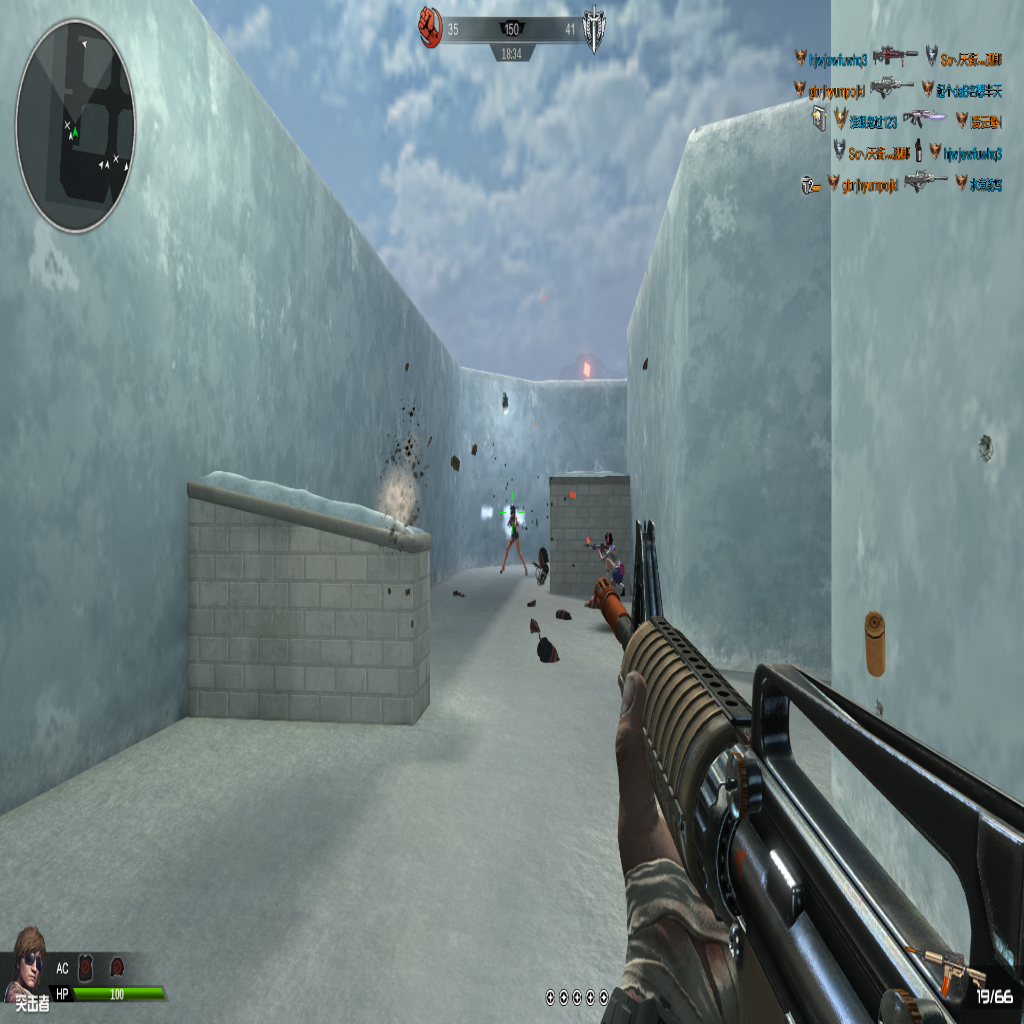ct: (500, 495, 528, 576)
